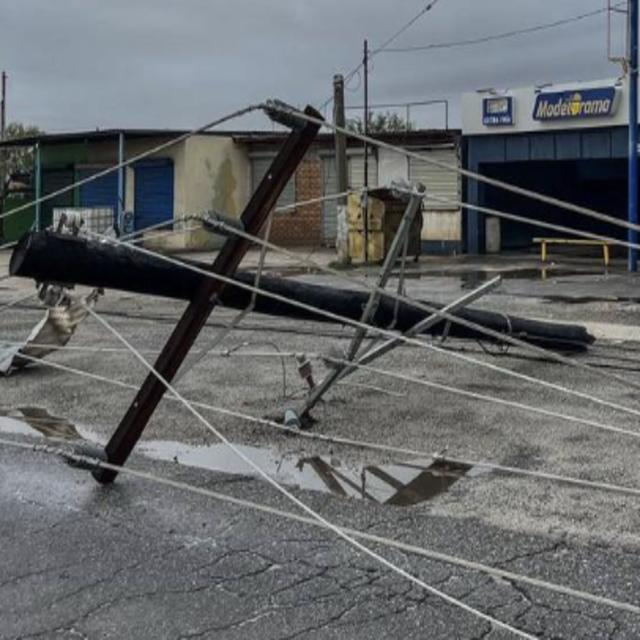Inclined Pole: (2, 89, 593, 492)
